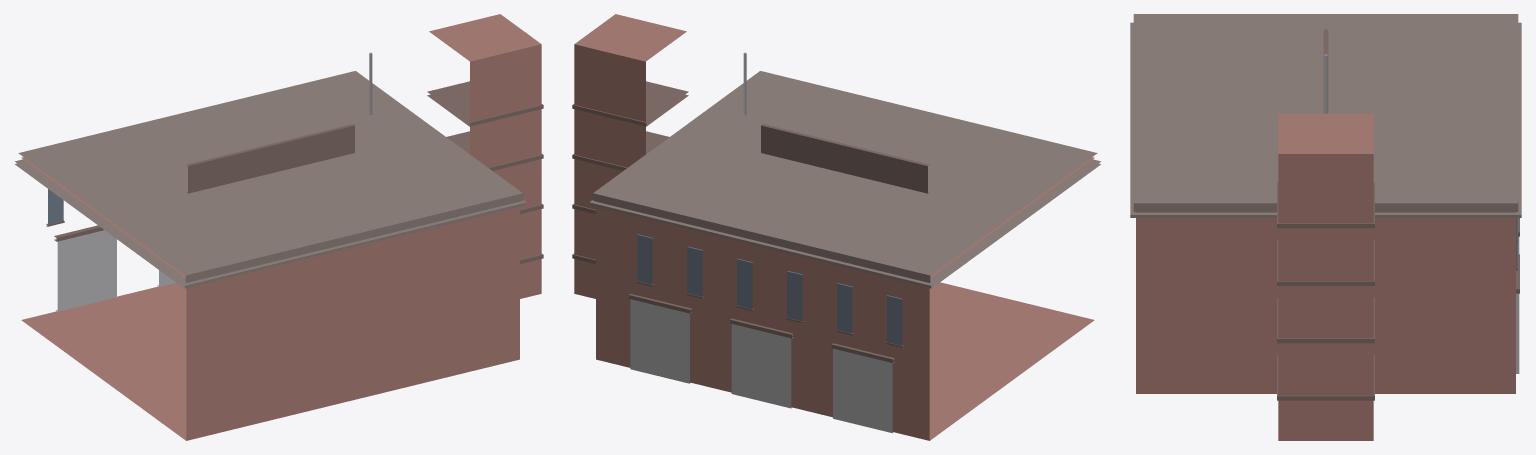
Rendered from fire_station.glb.
3 renders of one model, left to right at view 1: azimuth 30°, elevation 25°; view 2: azimuth 150°, elevation 25°; view 3: azimuth 270°, elevation 25°, orthographic. The views are drawn at different scales.
Visible parts, largest first — view 1: fire_station; view 2: fire_station; view 3: fire_station.
Boxes of the visible parts, <box> form: fire_station: <box>15,14,543,440</box>; fire_station: <box>572,14,1100,440</box>; fire_station: <box>1130,14,1521,440</box>.
Bounding box in the file's own units: 35.45 × 21 × 24.7.
